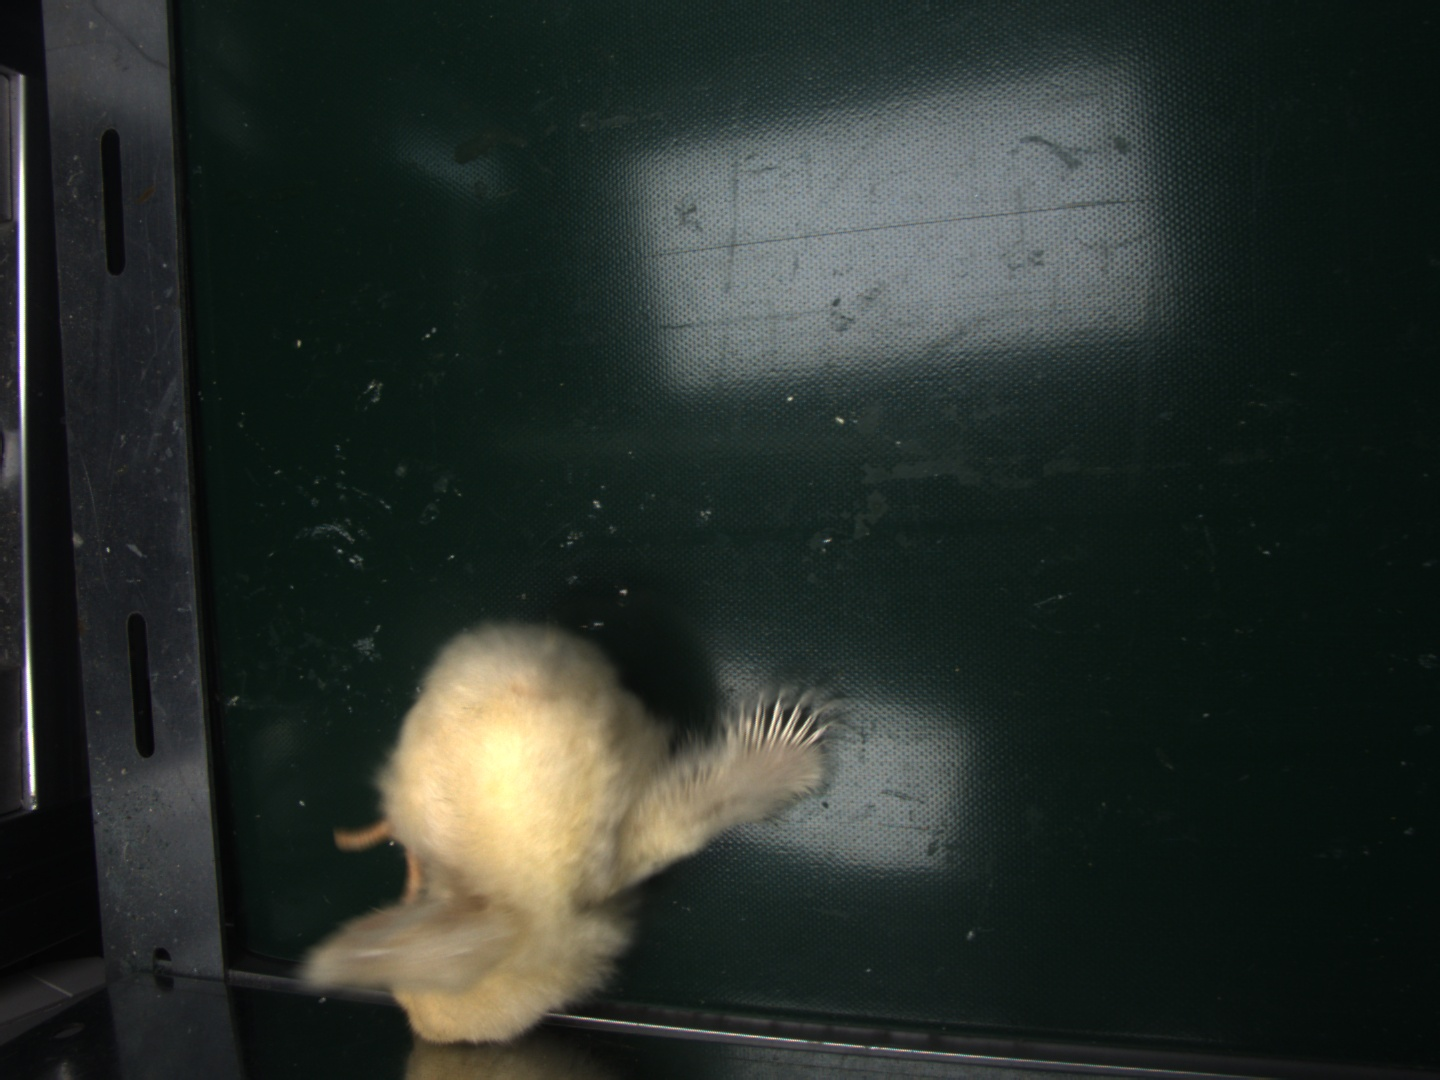male: (732, 697, 833, 756)
